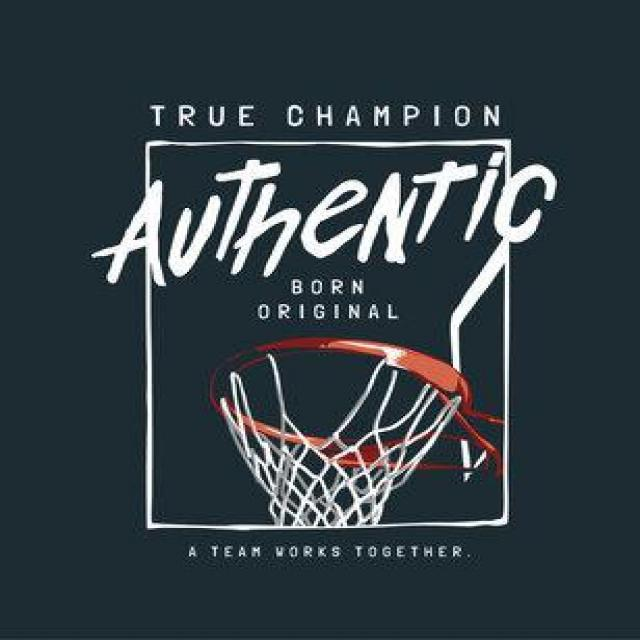hoop: (210, 339, 470, 528)
